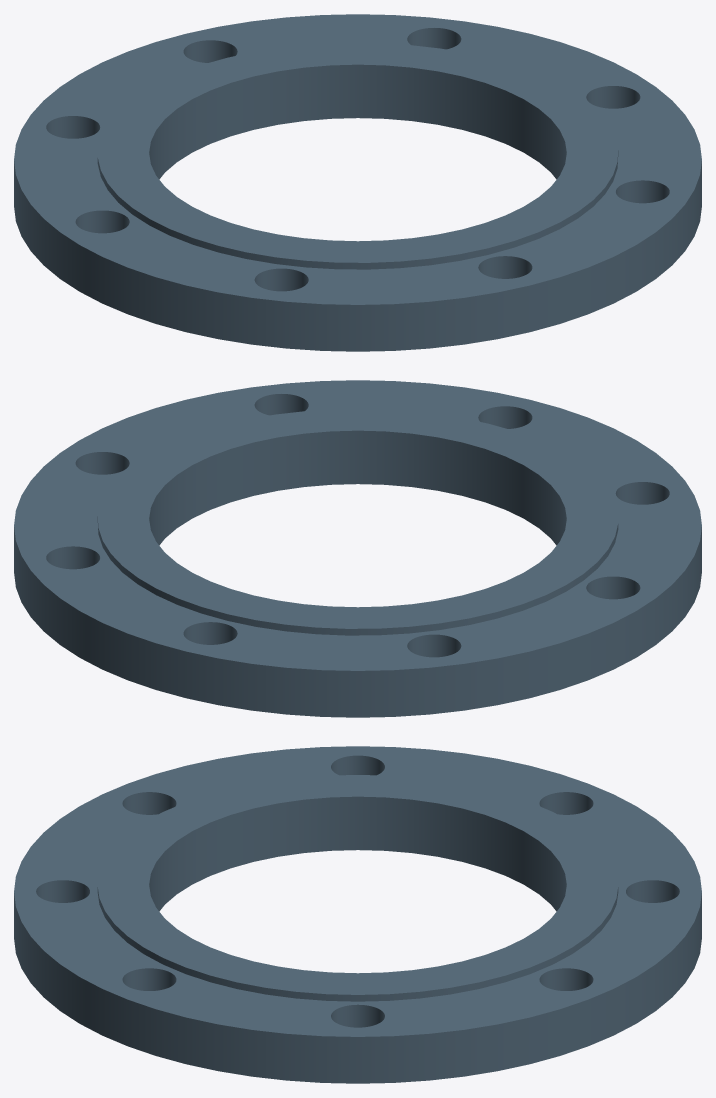
Rendered from flanec-ploskij-DN150-PN10.glb.
3 renders of one model, top to bottom at view 1: azimuth 30°, elevation 25°; view 2: azimuth 150°, elevation 25°; view 3: azimuth 270°, elevation 25°, orthographic.
Parts seen in each view (by area): view 1: Open CASCADE STEP translator 7.9 31; view 2: Open CASCADE STEP translator 7.9 31; view 3: Open CASCADE STEP translator 7.9 31.
Boxes of the visible parts, <box> form: Open CASCADE STEP translator 7.9 31: <box>14,14,701,351</box>; Open CASCADE STEP translator 7.9 31: <box>14,380,701,717</box>; Open CASCADE STEP translator 7.9 31: <box>14,746,701,1083</box>.
Size of the model in its own units: 280 by 24 by 280.
